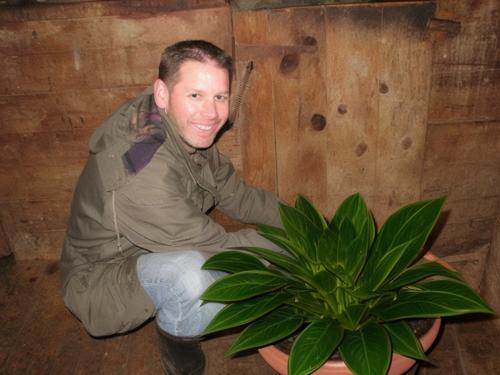person: (60, 40, 353, 375)
person/hand: (308, 244, 351, 273), (296, 209, 325, 235)
person/head: (152, 38, 233, 148)
pottedplant: (201, 195, 500, 375)
